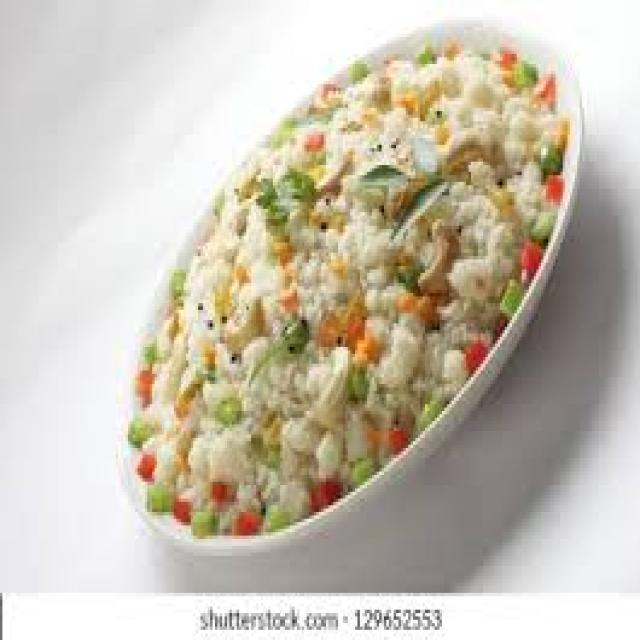UPMA: (126, 34, 565, 529)
